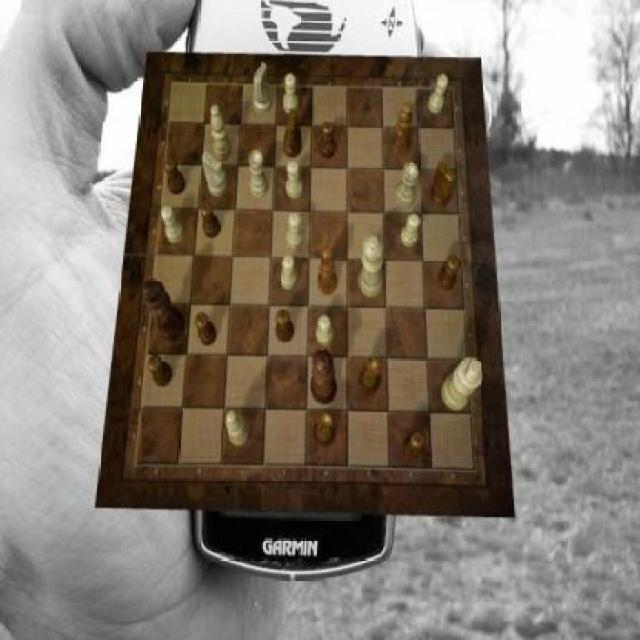bishop: (391, 101, 413, 158), (318, 248, 338, 297)
black-bishop: (142, 278, 186, 342)
black-king: (431, 162, 457, 208), (283, 110, 302, 158)
black-knight: (165, 157, 187, 195), (438, 256, 461, 292), (149, 357, 174, 389), (200, 202, 220, 239), (196, 314, 217, 348), (403, 431, 426, 460), (320, 122, 337, 160), (276, 309, 294, 343)
black-pawn: (310, 350, 338, 406)
black-queen: (358, 357, 381, 395), (312, 412, 335, 447)
black-rook: (210, 104, 232, 160), (226, 410, 250, 446)
white-bishop: (441, 357, 484, 411)
white-king: (203, 151, 229, 196), (252, 61, 272, 114)
white-knight: (162, 205, 184, 242), (428, 74, 448, 114), (400, 212, 420, 247), (283, 74, 299, 115), (286, 211, 303, 249), (286, 160, 303, 198), (280, 254, 297, 290), (315, 314, 333, 346)
white-pawn: (360, 232, 385, 298)
white-queen: (396, 161, 418, 207), (249, 151, 269, 198)
